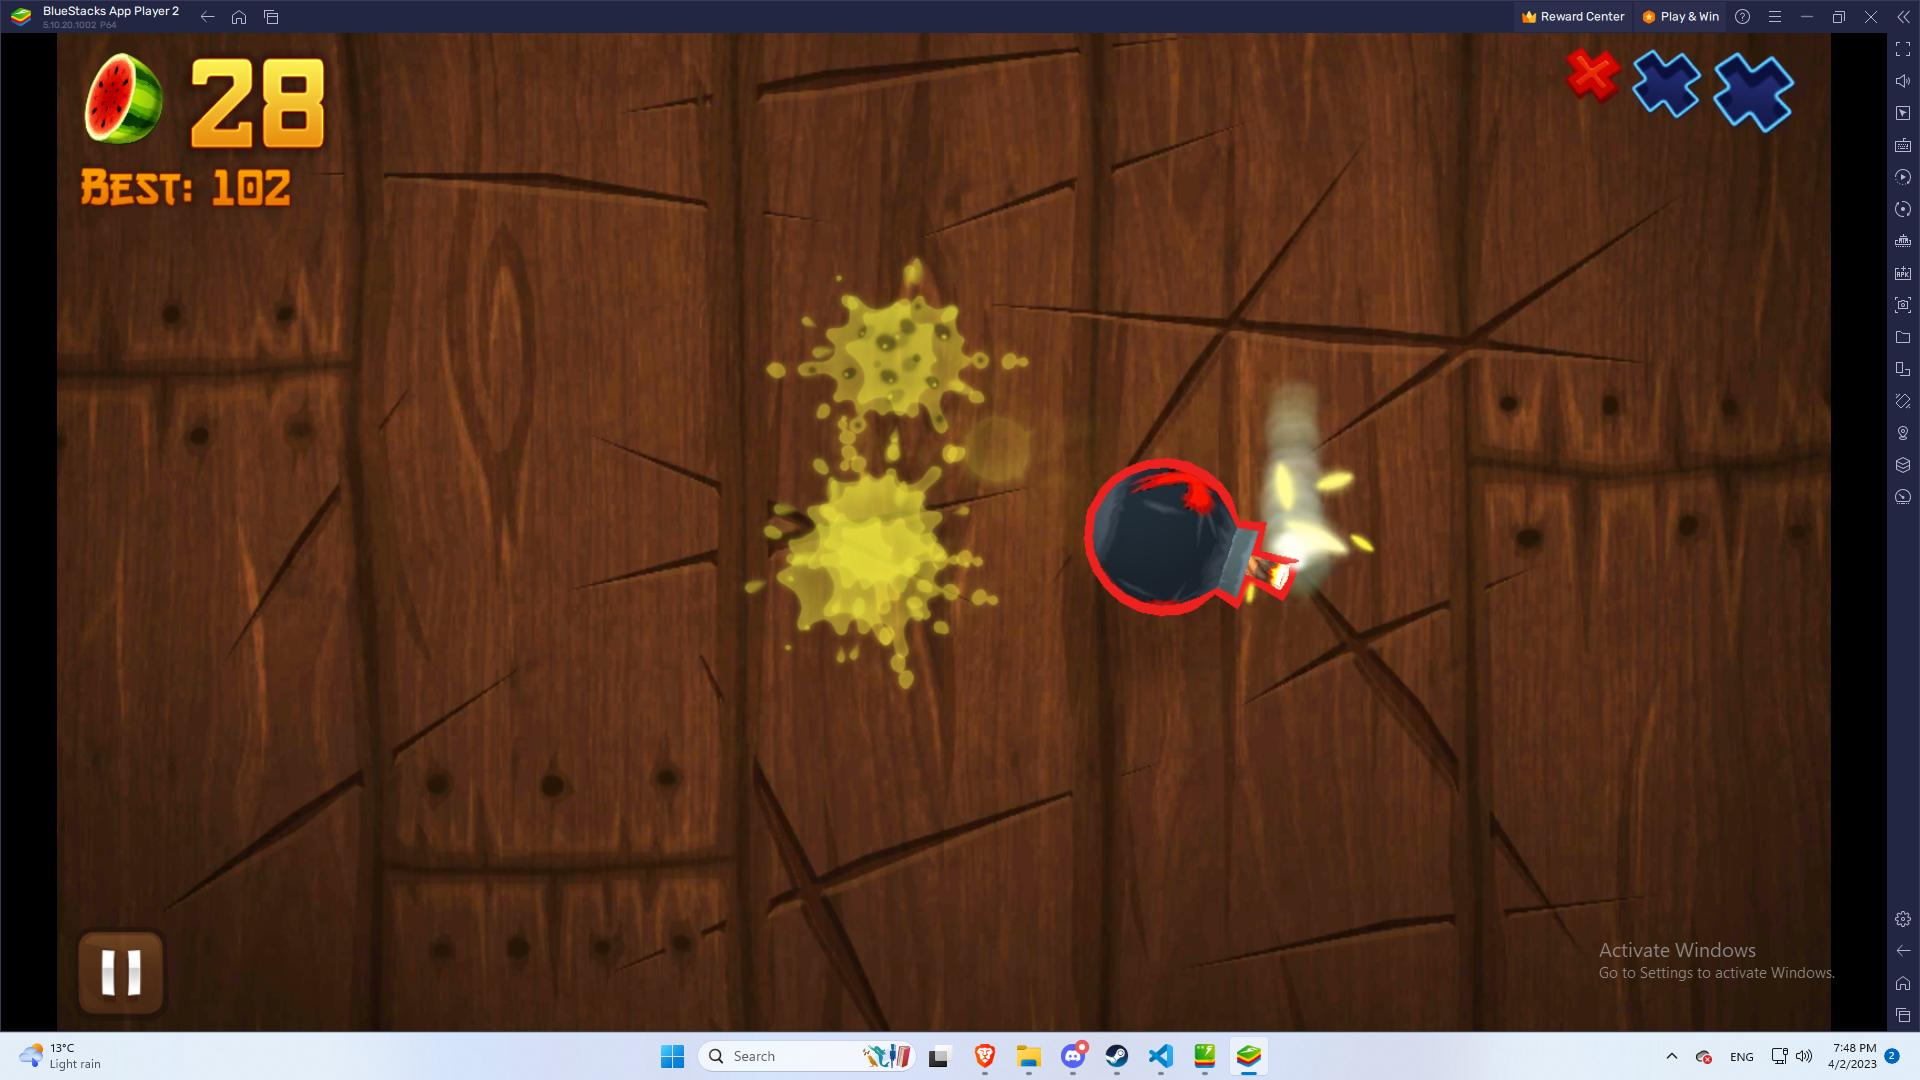bomb: (1065, 447, 1307, 637)
